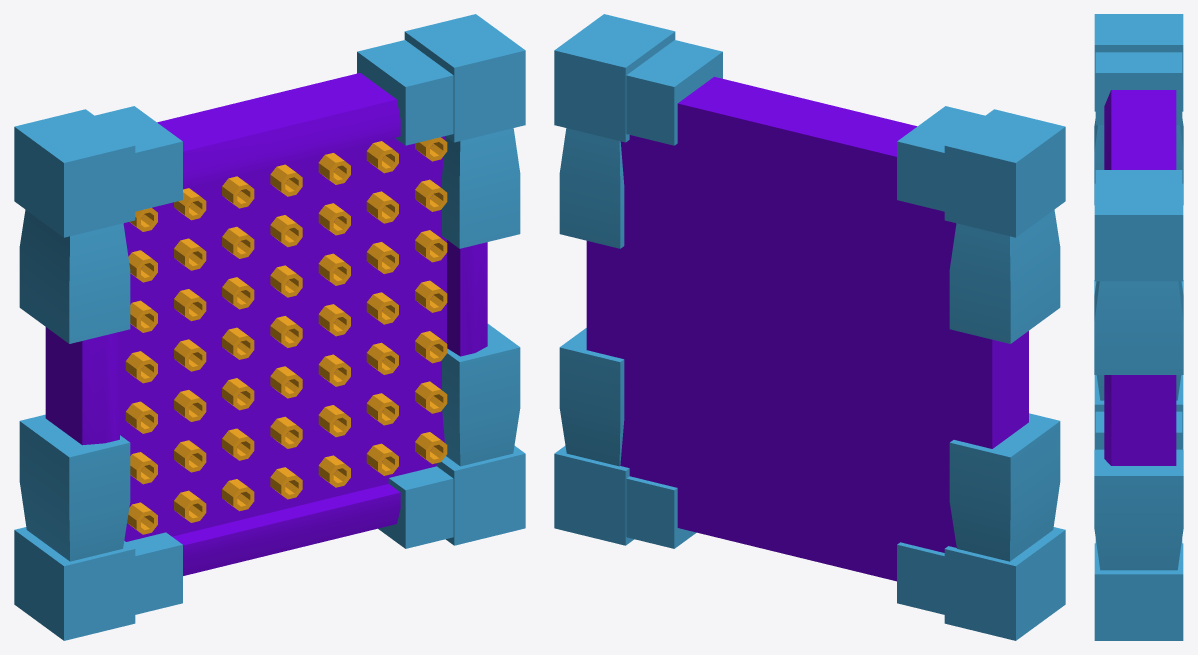
The model's file is Arrow_Trap_01.fbx.
The picture shows the model from 3 angles, left to right: view 1: azimuth 30°, elevation 25°; view 2: azimuth 150°, elevation 25°; view 3: azimuth 270°, elevation 25°; orthographic projection. The views are drawn at different scales.
Visible parts, largest first — view 1: Obstacle_Arrow_Trap_01; view 2: Obstacle_Arrow_Trap_01; view 3: Obstacle_Arrow_Trap_01.
Boxes of the visible parts, x1,y1,x2,y2 form: Obstacle_Arrow_Trap_01: (14,14,525,640); Obstacle_Arrow_Trap_01: (554,14,1065,640); Obstacle_Arrow_Trap_01: (1094,14,1183,640).
Size of the model in its own units: 212 by 210 by 39.69.
1 material, 1 textured.
